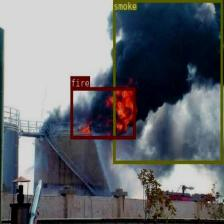fire: (70, 87, 135, 138)
smoke: (113, 0, 222, 163)
